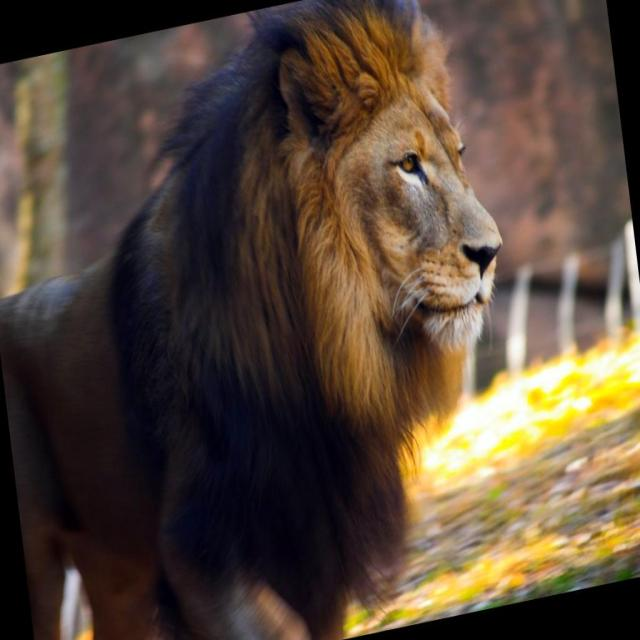Lion: (0, 0, 544, 639)
